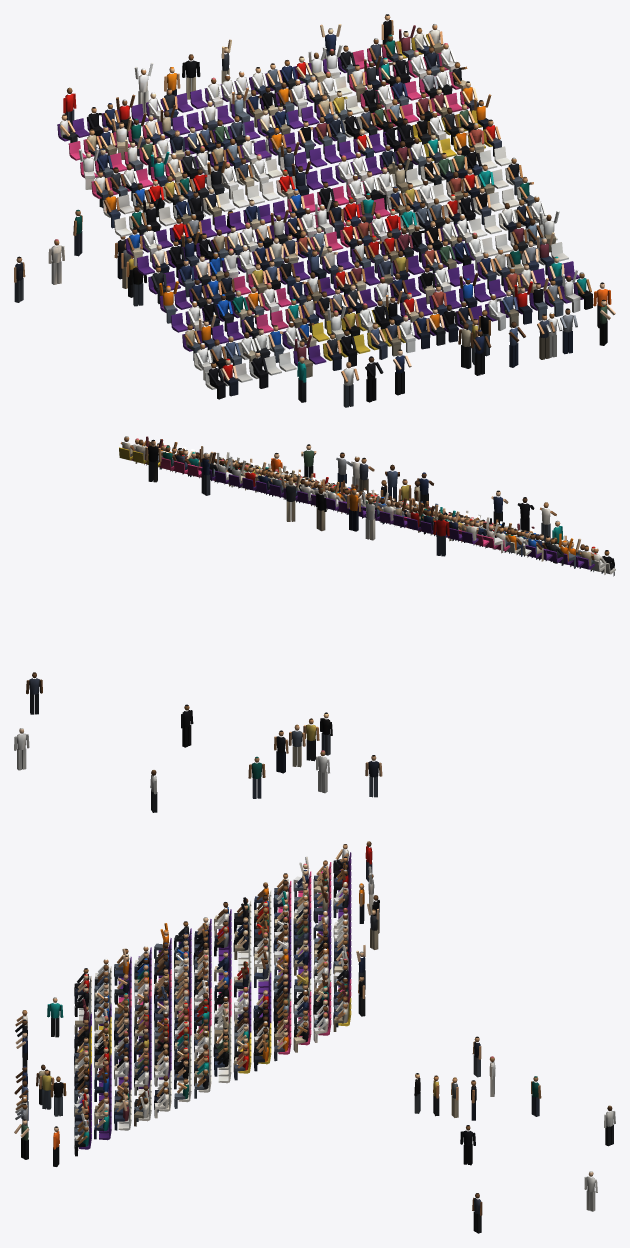
File: stand_main_kit_5.glb
3 renders of one model, top to bottom at view 1: azimuth 30°, elevation 25°; view 2: azimuth 150°, elevation 25°; view 3: azimuth 270°, elevation 25°, orthographic. The views are drawn at different scales.
Visible parts, largest first — view 1: kit_5; view 2: kit_5; view 3: kit_5.
Boxes of the visible parts, <box> form: kit_5: <box>14,14,615,407</box>; kit_5: <box>14,436,615,812</box>; kit_5: <box>14,841,615,1233</box>.
Size of the model in its own units: 16.63 by 10.3 by 24.14.
